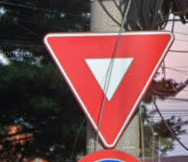cedeaza: (44, 29, 175, 151)
